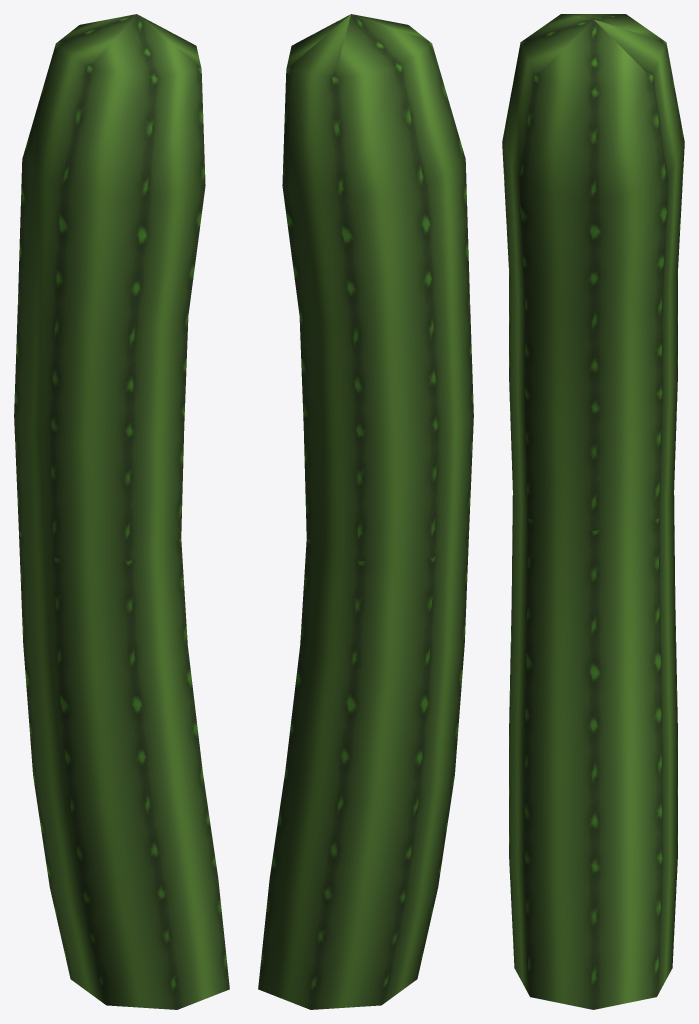
File: Ctn_cactus_01_v05.FBX
3 renders of one model, left to right at view 1: azimuth 30°, elevation 25°; view 2: azimuth 150°, elevation 25°; view 3: azimuth 270°, elevation 25°, orthographic.
Parts seen in each view (by area): view 1: Ctn_cactus_01_v05; view 2: Ctn_cactus_01_v05; view 3: Ctn_cactus_01_v05.
Part boxes in pixels (x1,y1,x2,y2): Ctn_cactus_01_v05: (14, 14, 229, 1009); Ctn_cactus_01_v05: (258, 14, 473, 1009); Ctn_cactus_01_v05: (502, 14, 684, 1009).
Size of the model in its own units: 17.26 by 83.33 by 14.55.
